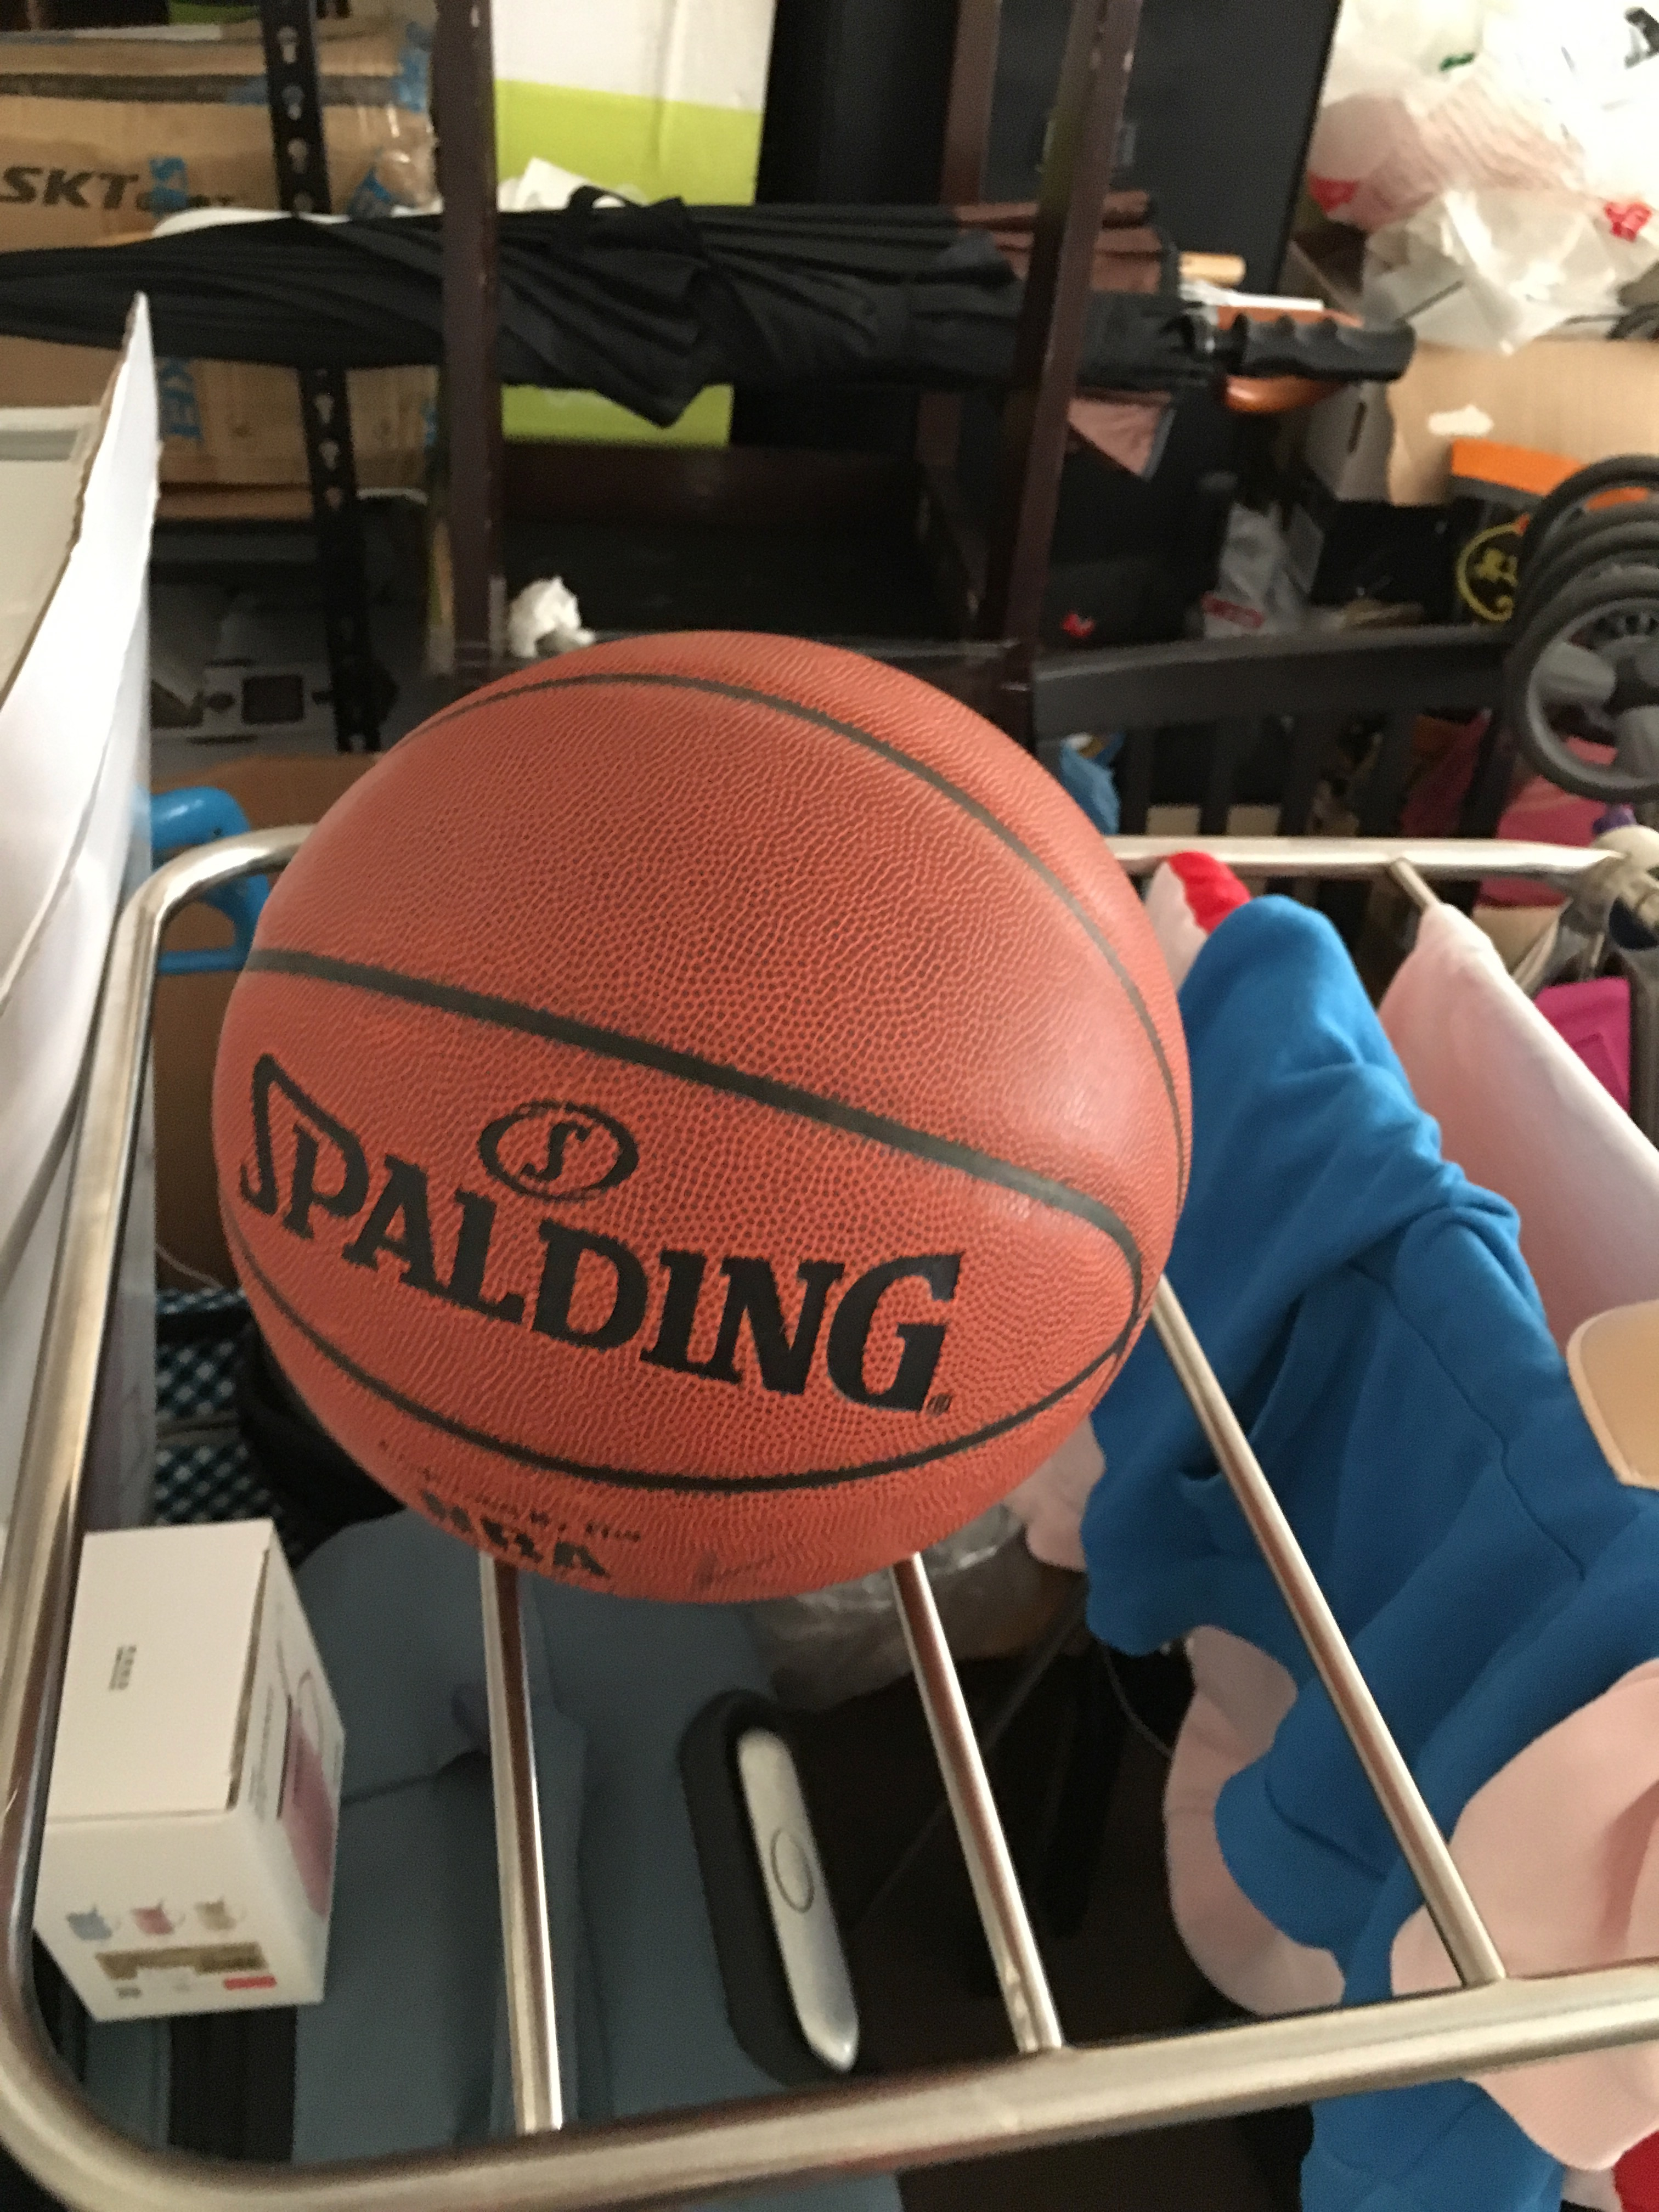Basketball: (197, 599, 1215, 1623)
